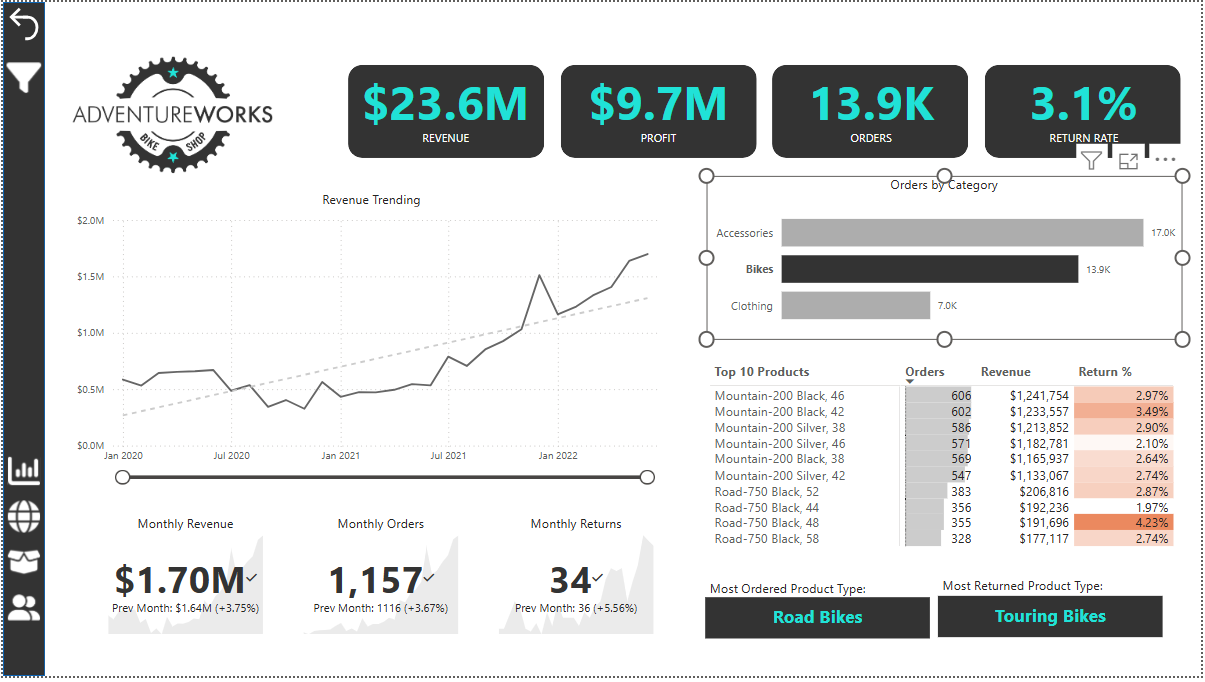

Layout of this report page (visuals, bound fields, positions):
{"tool":"powerbi","page":{"name":"Exec Dashboard","canvas":[1280,720],"ordinal":0},"visuals":[{"type":"shape","title":"Left Nav Background","box":[0,0,45,719.9],"z":0},{"type":"card","fields":{"Values":["Measure Table.Total Revenue"]},"box":[350,58.6,245.3,107.4],"z":0,"group":"g2"},{"type":"group","id":"g1","title":"KPI Backgrounds","box":[368.9,67.6,889.2,99.4],"z":0,"group":"g3"},{"type":"shape","box":[1048.6,67.6,209.5,99.4],"z":0,"group":"g1"},{"type":"actionButton","box":[1.3,527.9,62.3,42.4],"z":0,"group":"g4"},{"type":"image","title":"AW Logo","box":[45.1,35.8,271.8,169.7],"z":1000},{"type":"group","id":"g2","title":"KPI Values","box":[350,58.6,927.2,107.4],"z":1000,"group":"g3"},{"type":"card","fields":{"Values":["Measure Table.Return Rate"]},"box":[1031.4,58.6,245.7,107.1],"z":1000,"group":"g2"},{"type":"shape","box":[822.1,67.6,209.5,99.4],"z":1000,"group":"g1"},{"type":"actionButton","box":[1.3,576.5,62.3,42.4],"z":1000,"group":"g4"},{"type":"group","id":"g3","title":"KPIs","box":[350,58.6,927.2,108.4],"z":2000},{"type":"card","fields":{"Values":["Measure Table.Total Profit"]},"box":[576.8,58.6,245.7,107.1],"z":2000,"group":"g2"},{"type":"shape","box":[595.5,67.6,209.5,99.4],"z":2000,"group":"g1"},{"type":"actionButton","box":[1.3,625.1,62.3,42.4],"z":2000,"group":"g4"},{"type":"card","fields":{"Values":["Measure Table.Total Orders"]},"box":[804.1,58.6,245.7,107.1],"z":3000,"group":"g2"},{"type":"shape","box":[368.9,67.6,209.5,99.4],"z":3000,"group":"g1"},{"type":"lineChart","title":"Revenue Trending","fields":{"Y":["Measure Table.Total Revenue"],"Category":["Calendar Lookup.Year","Calendar Lookup.Start of Quarter.Variation.Date Hierarchy.Quarter","Calendar Lookup.Start of Quarter.Variation.Date Hierarchy.Month","Calendar Lookup.Date Hierarchy.Start of Month"]},"box":[72.9,201.4,641.4,317.1],"z":3000},{"type":"actionButton","box":[1.3,479.3,62.3,42.4],"z":3000,"group":"g4"},{"type":"kpi","title":"Monthly Revenue","fields":{"Indicator":["Measure Table.Total Revenue"],"TrendLine":["Calendar Lookup.Start of Month"],"Goal":["Measure Table.Previous Month Revenue"]},"box":[107.1,547.1,175.7,132.9],"z":4000},{"type":"kpi","title":"Monthly Orders","fields":{"TrendLine":["Calendar Lookup.Start of Month"],"Indicator":["Measure Table.Total Orders"],"Goal":["Measure Table.Previous Month Orders"]},"box":[315.7,547.1,175.7,132.9],"z":5000},{"type":"kpi","title":"Monthly Returns","fields":{"TrendLine":["Calendar Lookup.Start of Month"],"Indicator":["Measure Table.Total Returns"],"Goal":["Measure Table.Previous Month Returns"]},"box":[524.3,547.1,175.7,132.9],"z":6000},{"type":"clusteredBarChart","title":"Orders by Category","fields":{"Category":["Product Categories Lookup.CategoryName"],"Y":["Measure Table.Total Orders"]},"box":[751.7,185.6,507.7,175],"z":7000},{"type":"pivotTable","fields":{"Rows":["Product Lookup.ProductName"],"Values":["Measure Table.Total Orders","Measure Table.Total Revenue","Measure Table.Return Rate"]},"box":[750.3,380.5,507.7,216.1],"z":8000},{"type":"card","fields":{"Values":["Min(Product Subcategories Lookup.SubcategoryName)"]},"box":[750.3,636.3,240,43.7],"z":9000},{"type":"textbox","box":[750.3,611.1,222.7,50.4],"z":10000},{"type":"card","fields":{"Values":["Min(Product Subcategories Lookup.SubcategoryName)"]},"box":[998.2,634.4,240,43.7],"z":11000},{"type":"textbox","box":[998.3,608.5,222.7,50.4],"z":12000},{"type":"actionButton","box":[0,0,45.7,47.1],"z":13000},{"type":"group","id":"g4","title":"Navigation Buttons","box":[1.3,479.3,62.3,188.2],"z":14000},{"type":"actionButton","box":[0,58.3,45.1,45.1],"z":15000}]}

Visuals, with their boxes on the page's 1280x720 design canvas (x1, y1, x2, y2). These are canvas units, not pixel positions in the 1205x682 screenshot, which may show the page scaled, cropped or inside an application window:
"Left Nav Background" shape: 0 0 45 720
card - Measure Table.Total Revenue: 350 59 595 166
"KPI Backgrounds" group: 369 68 1258 167
shape: 1049 68 1258 167
actionButton: 1 528 64 570
"AW Logo" image: 45 36 317 206
"KPI Values" group: 350 59 1277 166
card - Measure Table.Return Rate: 1031 59 1277 166
shape: 822 68 1032 167
actionButton: 1 576 64 619
"KPIs" group: 350 59 1277 167
card - Measure Table.Total Profit: 577 59 822 166
shape: 596 68 805 167
actionButton: 1 625 64 668
card - Measure Table.Total Orders: 804 59 1050 166
shape: 369 68 578 167
"Revenue Trending" lineChart: 73 201 714 518
actionButton: 1 479 64 522
"Monthly Revenue" kpi: 107 547 283 680
"Monthly Orders" kpi: 316 547 491 680
"Monthly Returns" kpi: 524 547 700 680
"Orders by Category" clusteredBarChart: 752 186 1259 361
pivotTable - Product Lookup.ProductName x Measure Table.Total Orders: 750 380 1258 597
card - Min(Product Subcategories Lookup.SubcategoryName): 750 636 990 680
textbox: 750 611 973 662
card - Min(Product Subcategories Lookup.SubcategoryName): 998 634 1238 678
textbox: 998 608 1221 659
actionButton: 0 0 46 47
"Navigation Buttons" group: 1 479 64 668
actionButton: 0 58 45 103
